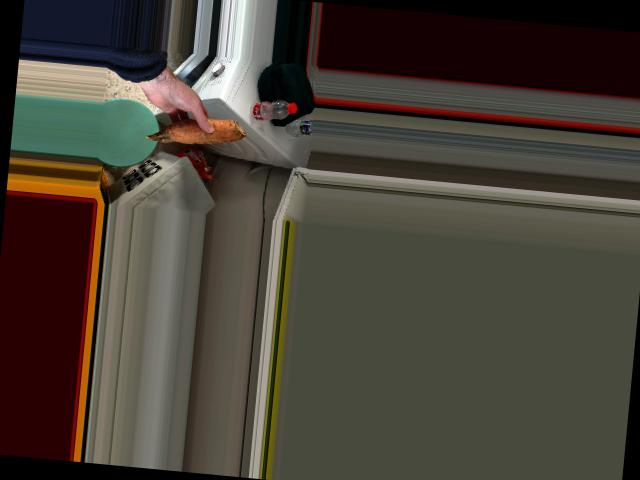sweet_potato: (140, 116, 250, 152)
